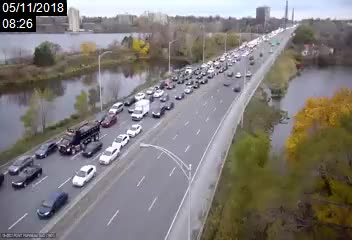congestion: (7, 100, 148, 220), (118, 75, 188, 116), (176, 58, 227, 82), (212, 50, 247, 65)
personal_car: (36, 191, 69, 220), (11, 165, 43, 189), (71, 164, 98, 187), (8, 156, 35, 175), (35, 142, 57, 159), (99, 147, 120, 164), (82, 141, 103, 157), (131, 105, 149, 121), (113, 133, 129, 149), (126, 123, 141, 137), (101, 115, 117, 128), (110, 101, 124, 115), (151, 104, 164, 117), (162, 100, 175, 111), (123, 96, 135, 106), (134, 91, 145, 101), (127, 104, 139, 113), (154, 80, 165, 89), (231, 84, 242, 93), (152, 89, 164, 97), (145, 85, 155, 94), (183, 86, 194, 94), (175, 92, 184, 100), (159, 94, 168, 102), (222, 80, 232, 87), (166, 83, 176, 89), (192, 82, 199, 89), (185, 79, 193, 85), (177, 78, 184, 84)
truck: (59, 120, 100, 155), (185, 64, 195, 75)
